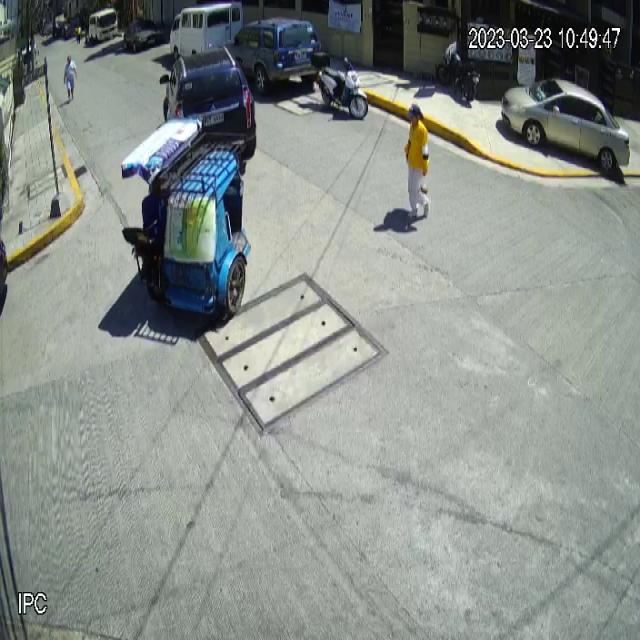Car: (500, 76, 630, 173)
Motorcycle: (311, 51, 368, 120)
Tricycle: (119, 112, 253, 320)
Van: (170, 0, 244, 58)
